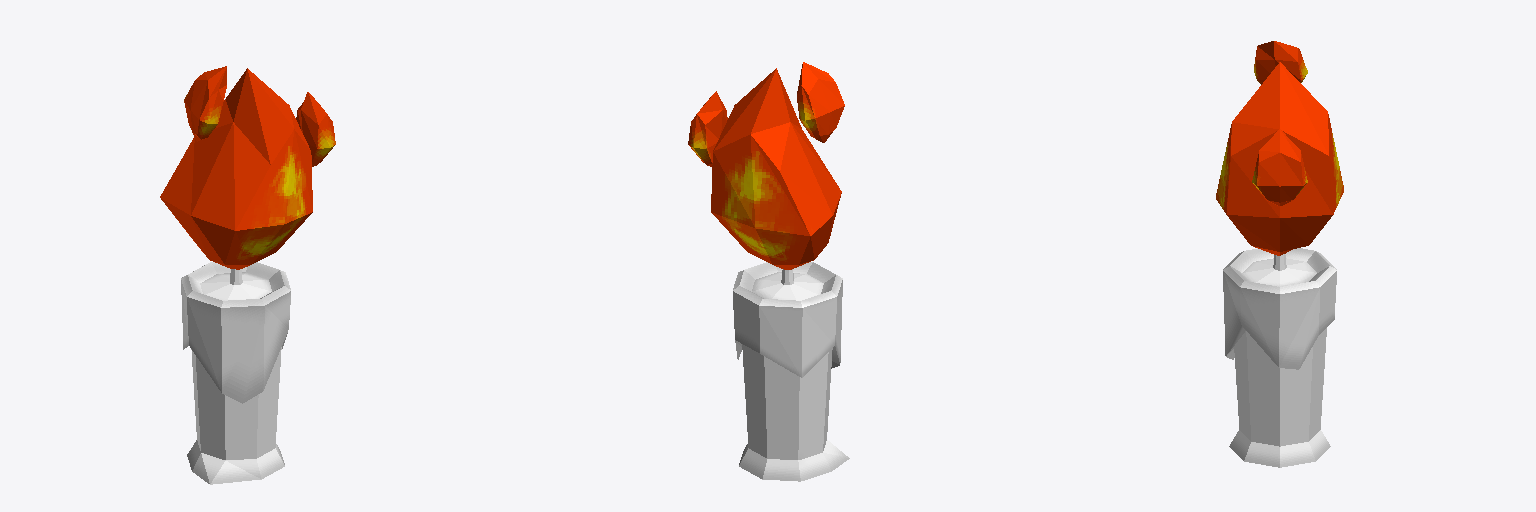
The picture shows the model from 3 angles: view 1: azimuth 30°, elevation 25°; view 2: azimuth 150°, elevation 25°; view 3: azimuth 270°, elevation 25°; orthographic projection.
Parts seen in each view (by area): view 1: Candle_0; view 2: Candle_0; view 3: Candle_0.
Boxes of the visible parts, <box> form: Candle_0: <box>160,66,335,484</box>; Candle_0: <box>688,62,849,481</box>; Candle_0: <box>1216,41,1343,467</box>.
Size of the model in its own units: 0.2643 by 0.7272 by 0.2126.
Materials: 1 (1 with a texture image).